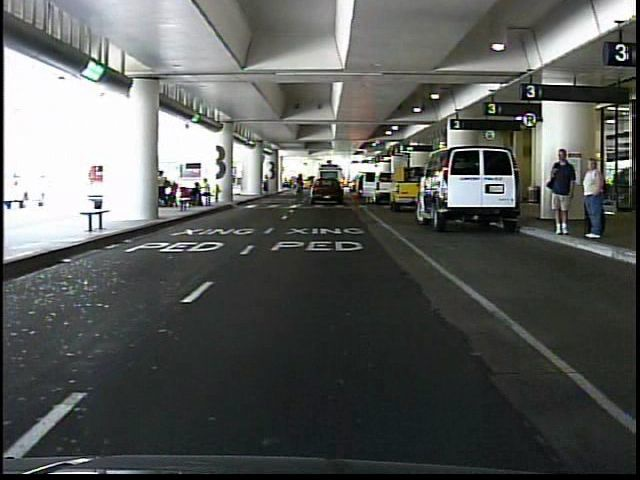person: (577, 151, 611, 244), (546, 146, 576, 239), (349, 170, 364, 203), (263, 170, 274, 194)
